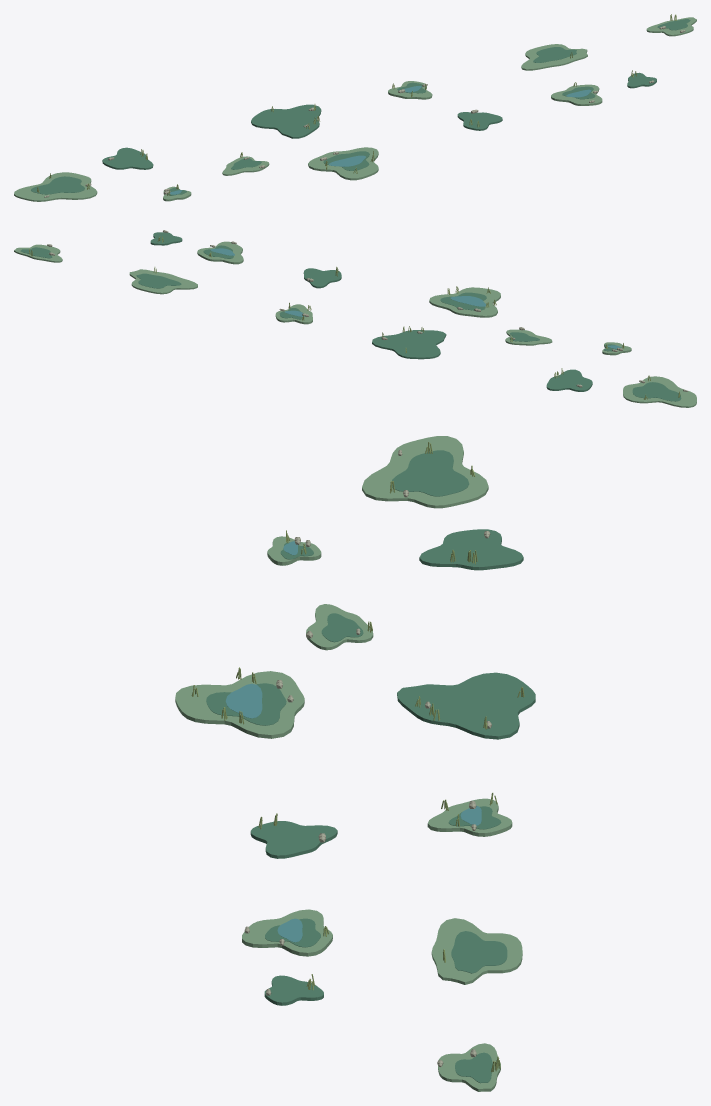
Rendered from bridges_landscape_reexport_v1.glb.
3 renders of one model, top to bottom at view 1: azimuth 30°, elevation 25°; view 2: azimuth 150°, elevation 25°; view 3: azimuth 270°, elevation 25°, orthographic. The views are drawn at different scales.
Visible parts, largest first — view 1: REFINED_BATCH_LANDSCAPE_REFINED_deep_moss_SOURCE_COPY, REFINED_BATCH_LANDSCAPE_REFINED_meadow_SOURCE_COPY, REFINED_BATCH_LANDSCAPE_REFINED_sheltered_water_SOURCE_COPY, REFINED_BATCH_LANDSCAPE_REFINED_reed_leaf_SOURCE_COPY, REFINED_BATCH_LANDSCAPE_REFINED_stone_SOURCE_COPY; view 2: REFINED_BATCH_LANDSCAPE_REFINED_deep_moss_SOURCE_COPY, REFINED_BATCH_LANDSCAPE_REFINED_meadow_SOURCE_COPY, REFINED_BATCH_LANDSCAPE_REFINED_sheltered_water_SOURCE_COPY, REFINED_BATCH_LANDSCAPE_REFINED_reed_leaf_SOURCE_COPY, REFINED_BATCH_LANDSCAPE_REFINED_stone_SOURCE_COPY; view 3: REFINED_BATCH_LANDSCAPE_REFINED_deep_moss_SOURCE_COPY, REFINED_BATCH_LANDSCAPE_REFINED_meadow_SOURCE_COPY, REFINED_BATCH_LANDSCAPE_REFINED_sheltered_water_SOURCE_COPY, REFINED_BATCH_LANDSCAPE_REFINED_reed_leaf_SOURCE_COPY.
Part boxes in pixels (x1,y1,x2,y2): REFINED_BATCH_LANDSCAPE_REFINED_deep_moss_SOURCE_COPY: [31, 19, 690, 195]; REFINED_BATCH_LANDSCAPE_REFINED_meadow_SOURCE_COPY: [14, 17, 696, 201]; REFINED_BATCH_LANDSCAPE_REFINED_sheltered_water_SOURCE_COPY: [168, 86, 591, 194]; REFINED_BATCH_LANDSCAPE_REFINED_reed_leaf_SOURCE_COPY: [37, 14, 676, 195]; REFINED_BATCH_LANDSCAPE_REFINED_stone_SOURCE_COPY: [44, 26, 685, 197]; REFINED_BATCH_LANDSCAPE_REFINED_deep_moss_SOURCE_COPY: [20, 232, 681, 401]; REFINED_BATCH_LANDSCAPE_REFINED_meadow_SOURCE_COPY: [14, 241, 696, 407]; REFINED_BATCH_LANDSCAPE_REFINED_sheltered_water_SOURCE_COPY: [210, 248, 620, 349]; REFINED_BATCH_LANDSCAPE_REFINED_reed_leaf_SOURCE_COPY: [29, 236, 680, 399]; REFINED_BATCH_LANDSCAPE_REFINED_stone_SOURCE_COPY: [47, 230, 687, 391]; REFINED_BATCH_LANDSCAPE_REFINED_deep_moss_SOURCE_COPY: [206, 450, 535, 1083]; REFINED_BATCH_LANDSCAPE_REFINED_meadow_SOURCE_COPY: [175, 436, 522, 1091]; REFINED_BATCH_LANDSCAPE_REFINED_sheltered_water_SOURCE_COPY: [225, 541, 481, 942]; REFINED_BATCH_LANDSCAPE_REFINED_reed_leaf_SOURCE_COPY: [191, 442, 524, 1072].
Bounding box in the file's own units: 47.84 × 0.5807 × 11.16.
